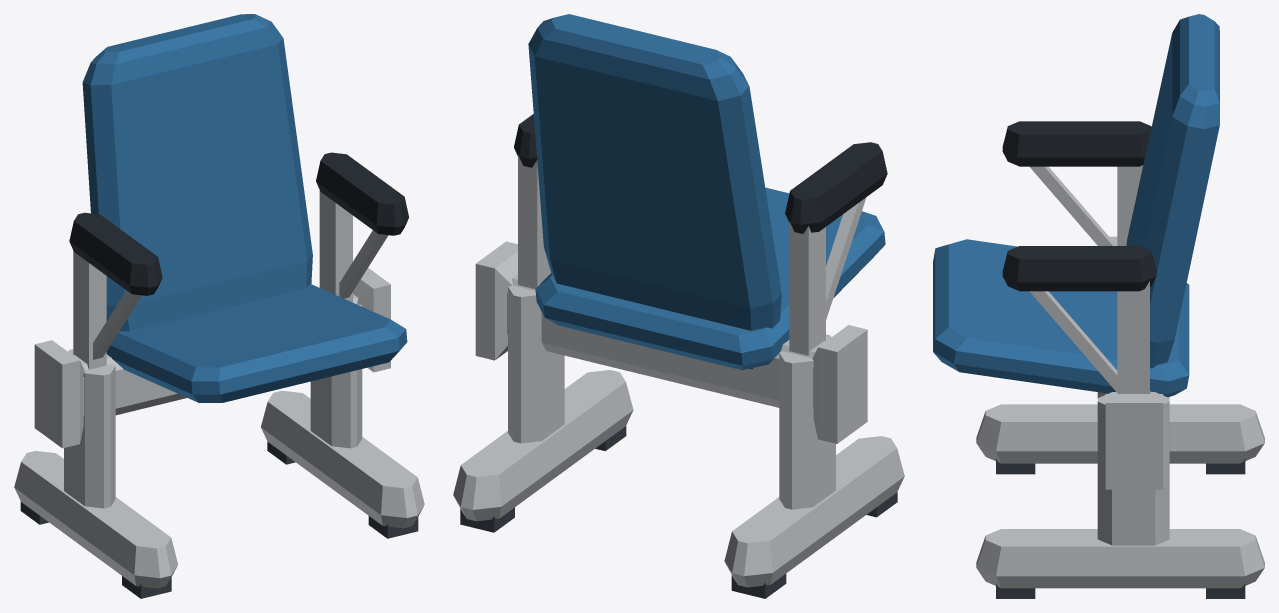
The model's file is waiting-room-chair-5e20cc.glb.
The picture shows the model from 3 angles, left to right: view 1: azimuth 30°, elevation 25°; view 2: azimuth 150°, elevation 25°; view 3: azimuth 270°, elevation 25°; orthographic projection. The views are drawn at different scales.
Visible parts, largest first — view 1: waiting-room-chair; view 2: waiting-room-chair; view 3: waiting-room-chair.
Part boxes in pixels (left/top/right/bottom): waiting-room-chair: left=14, top=14, right=424, bottom=598; waiting-room-chair: left=453, top=14, right=904, bottom=598; waiting-room-chair: left=933, top=14, right=1264, bottom=598.
Size of the model in its own units: 0.6 by 0.8053 by 0.5059.
